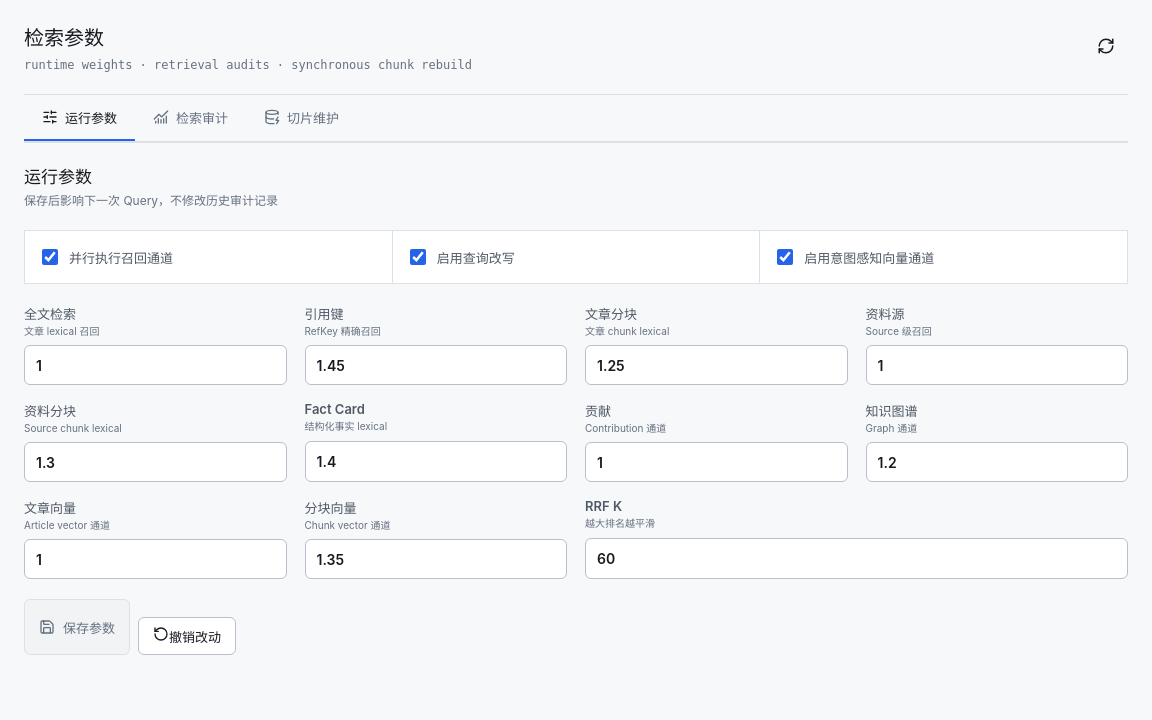
retrieval settings page › edits all runtime fields and keeps changes after a failed save
Replace the text in the number field named "知识图谱权重" with "0". click: (997, 462)
box: [866, 442, 1128, 482]
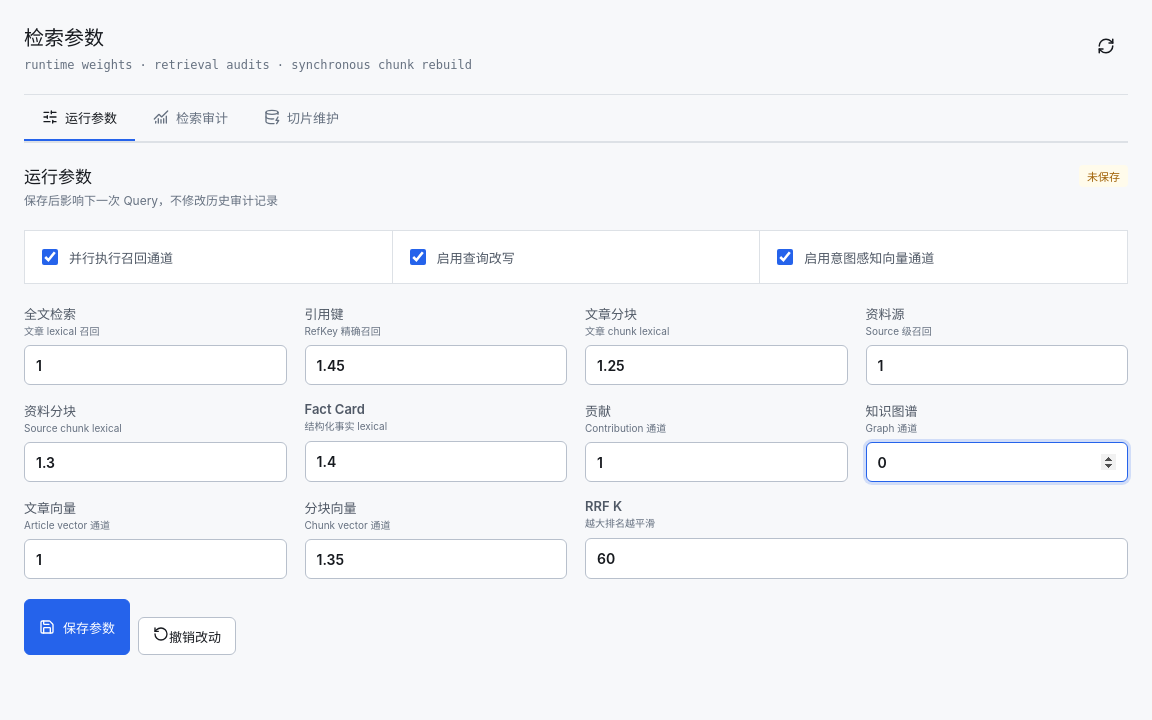
Click the checkbox labelled "启用查询改写". click: (418, 257)
box: [410, 249, 426, 265]
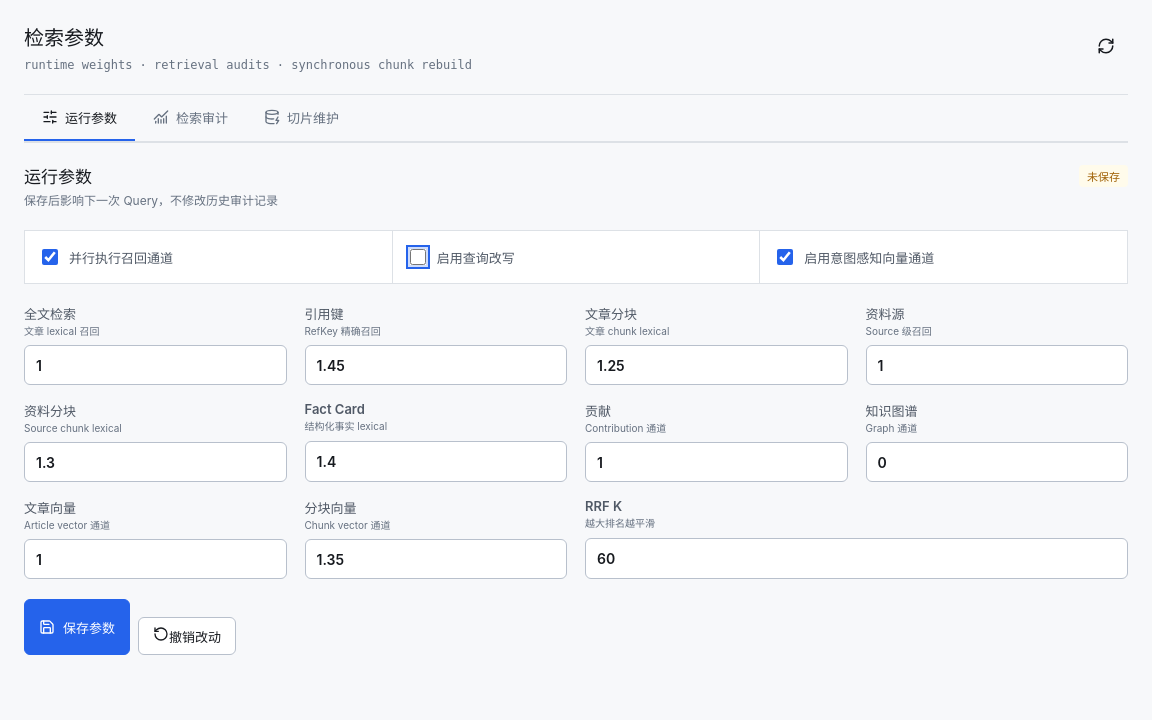
Click the button "保存参数". click: (77, 627)
box: [24, 599, 130, 655]
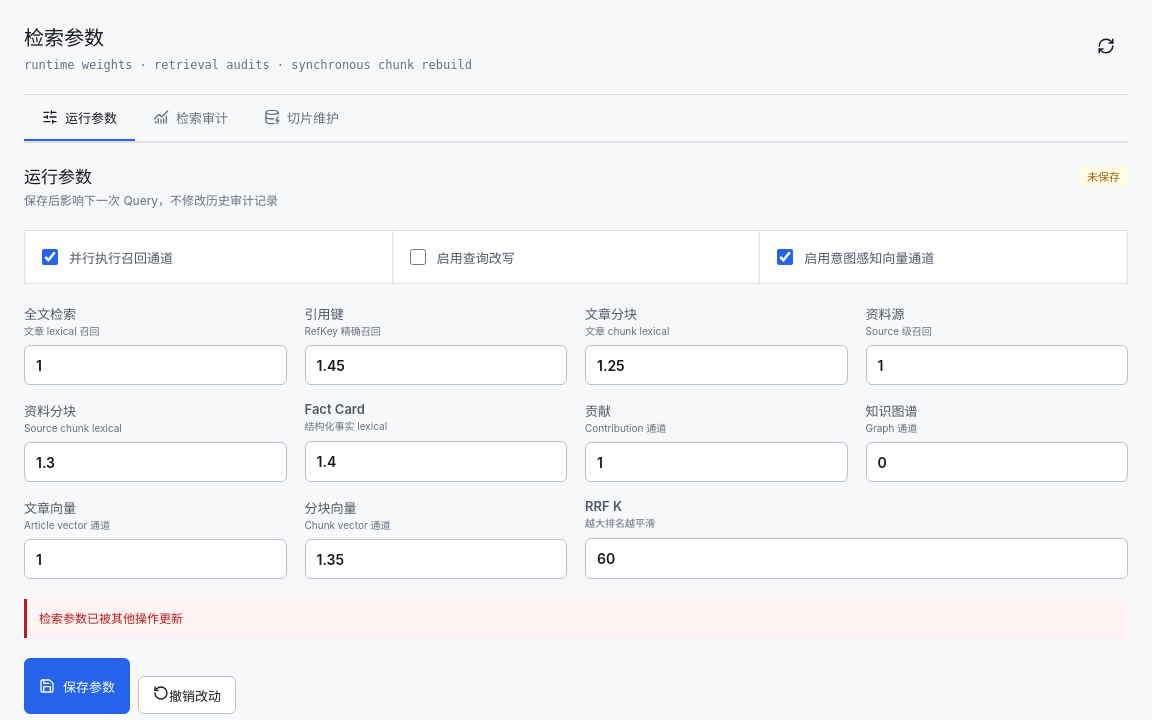
expect the text "未保存" is shown: met, box [1079, 165, 1128, 187]
expect the message reads "检索参数已被其他操作更新": met, box [39, 611, 183, 626]
